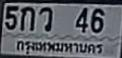4: (75, 7, 87, 32)
5: (5, 5, 17, 29)
6: (90, 7, 103, 32)
A01: (20, 6, 34, 30)
A37: (38, 6, 52, 31)
BKK: (13, 39, 103, 56)
